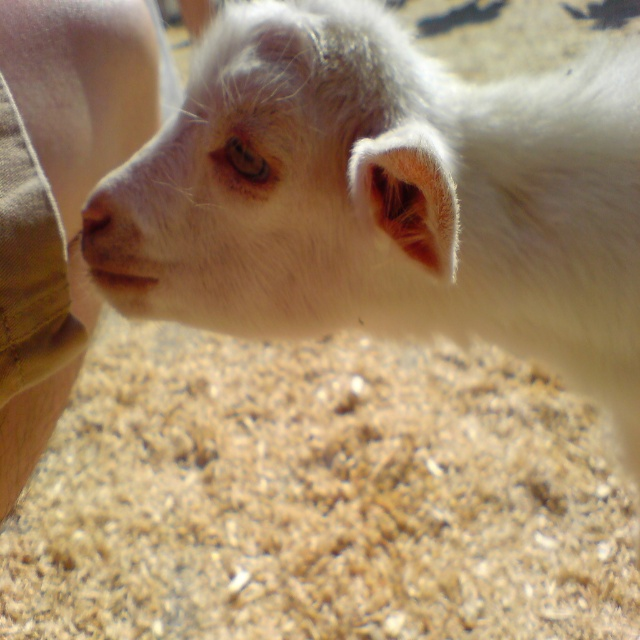Goat: (80, 0, 640, 487)
